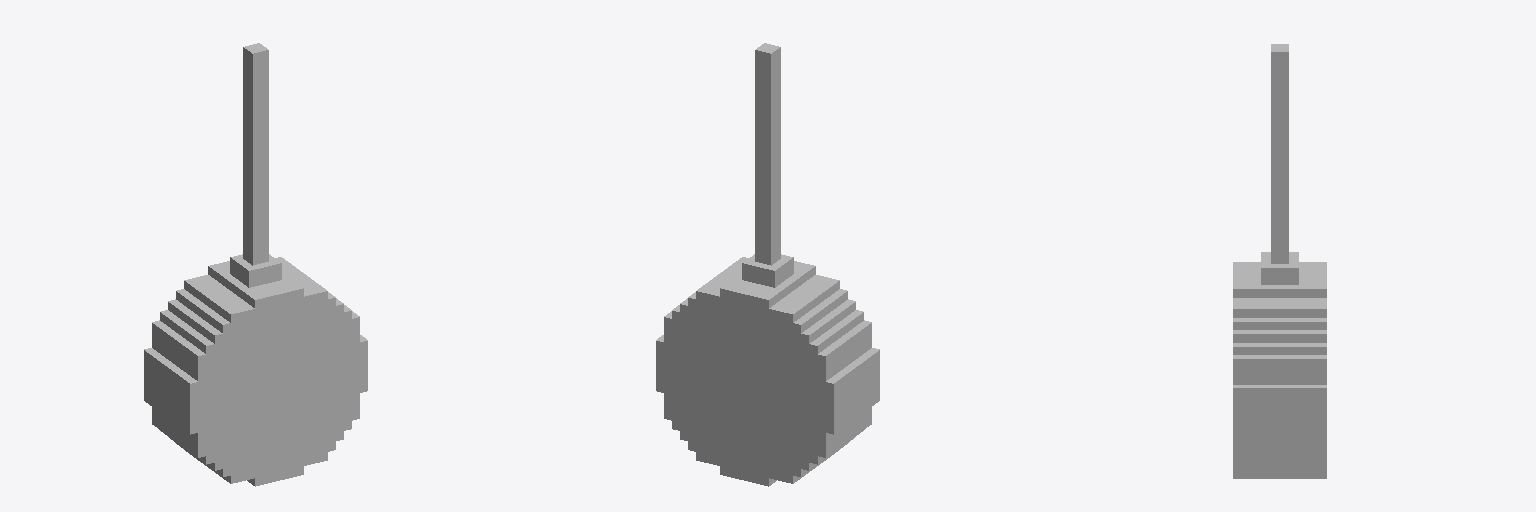
The model's file is Going Down 7.obj.
The picture shows the model from 3 angles: view 1: azimuth 30°, elevation 25°; view 2: azimuth 150°, elevation 25°; view 3: azimuth 270°, elevation 25°; orthographic projection.
Bounding box in the file's own units: 22 × 49 × 10.